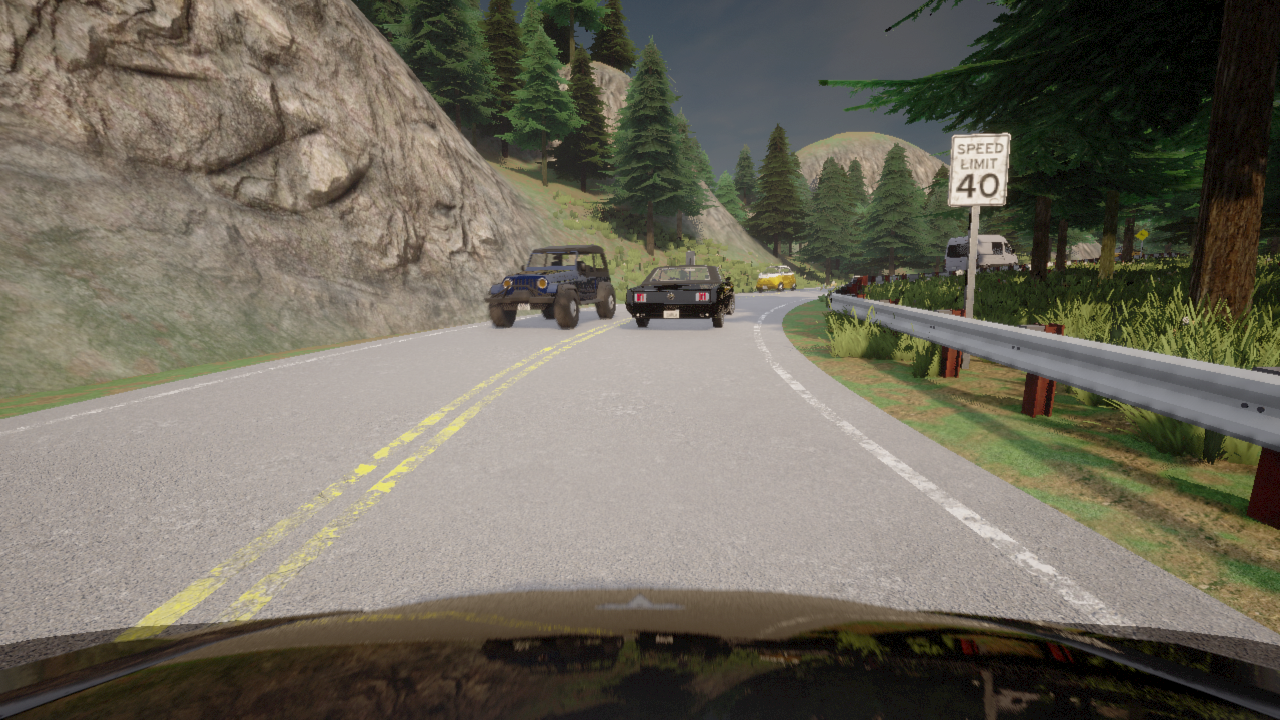cyclist: (0, 588, 1279, 719), (483, 244, 615, 328), (625, 265, 734, 327), (944, 235, 1017, 271), (756, 265, 795, 292), (1115, 246, 1139, 256)
